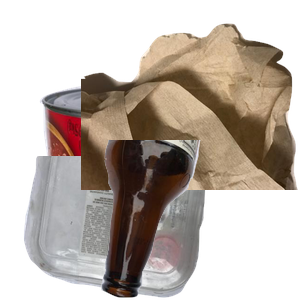glass: (99, 140, 300, 300)
metal: (37, 81, 277, 261)
plastic: (21, 156, 226, 300)
trash: (81, 21, 300, 201)
